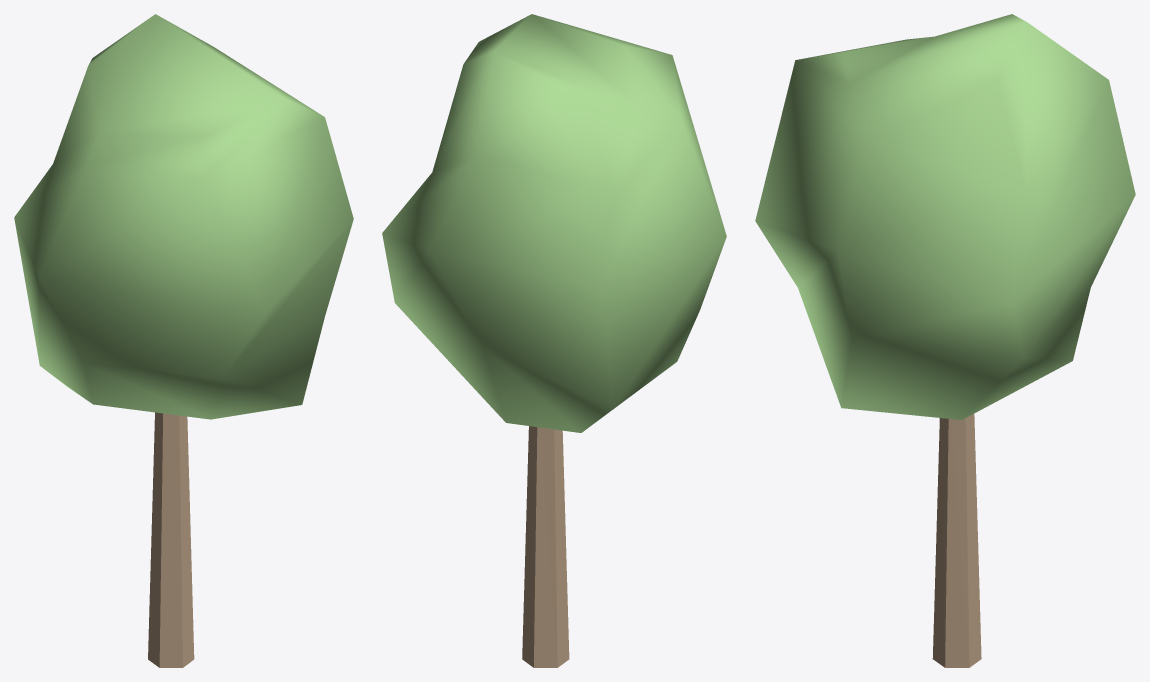
Rendered from Tree_01.glb.
3 renders of one model, left to right at view 1: azimuth 30°, elevation 25°; view 2: azimuth 150°, elevation 25°; view 3: azimuth 270°, elevation 25°, orthographic. The views are drawn at different scales.
Visible parts, largest first — view 1: Tree01.001; view 2: Tree01.001; view 3: Tree01.001.
Boxes of the visible parts, x1,y1,x2,y2 form: Tree01.001: [14, 14, 353, 667]; Tree01.001: [382, 14, 726, 667]; Tree01.001: [755, 14, 1135, 667].
Size of the model in its own units: 6.59 by 13.43 by 7.17.
